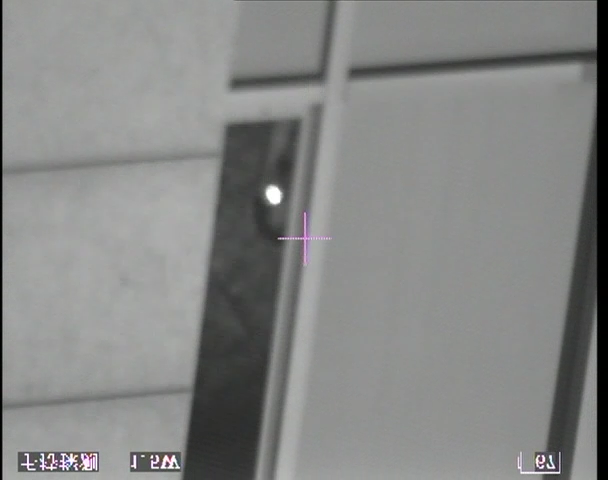my: (263, 183, 283, 206)
